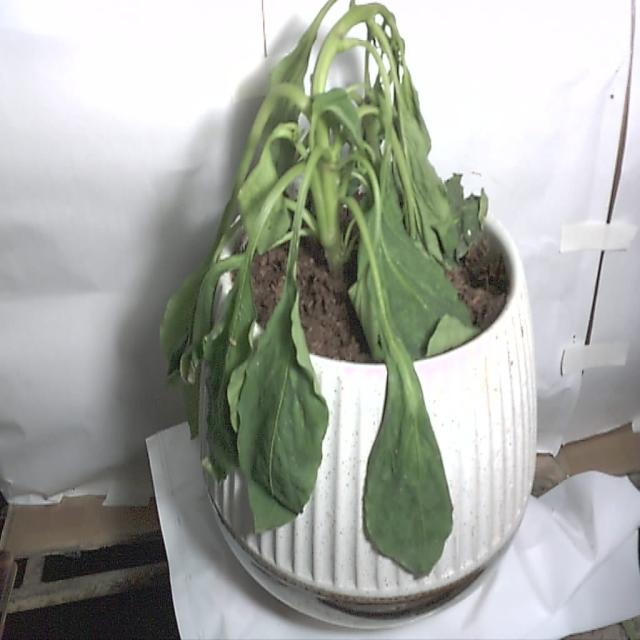Leaf: (355, 286, 457, 583), (232, 254, 332, 531)
